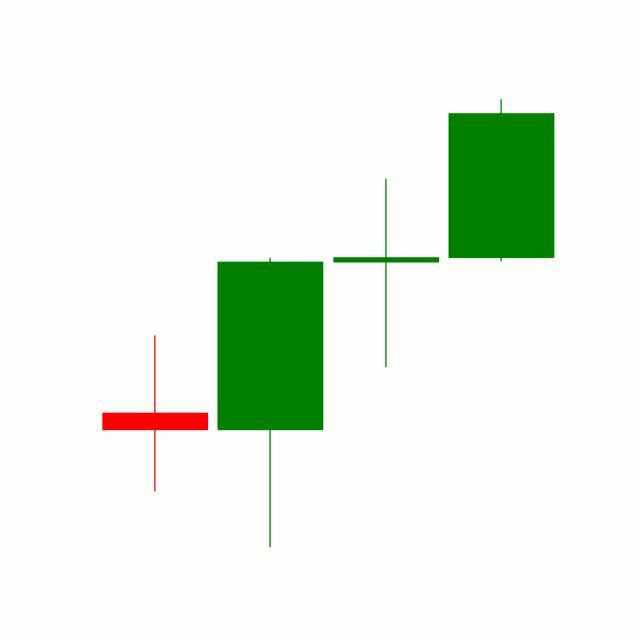Spinning Top: (329, 177, 445, 371)
